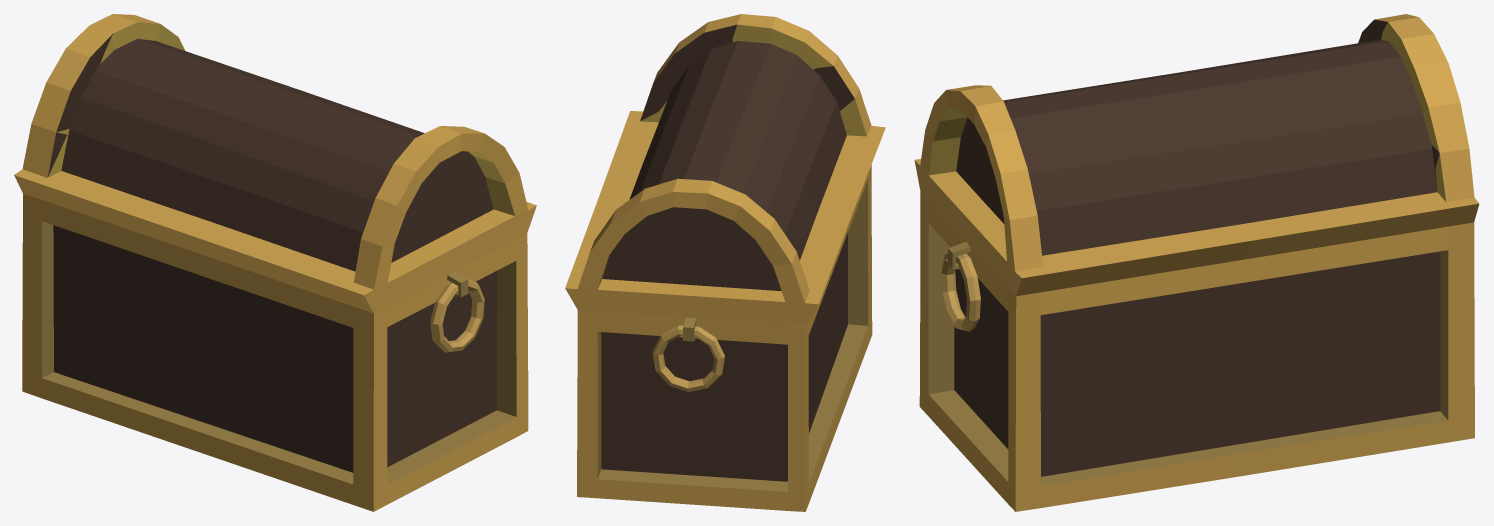
3 views of the same model, side by side, from view 1: azimuth 30°, elevation 25°; view 2: azimuth 150°, elevation 25°; view 3: azimuth 270°, elevation 25° (orthographic). The views are drawn at different scales.
Visible parts, largest first — view 1: Box, Lid; view 2: Lid, Box; view 3: Box, Lid.
Boxes of the visible parts, x1=… form: Box: x1=22, y1=194, x2=528, y2=511; Lid: x1=14, y1=14, x2=536, y2=313; Lid: x1=565, y1=14, x2=885, y2=325; Box: x1=577, y1=165, x2=872, y2=511; Box: x1=919, y1=192, x2=1474, y2=511; Lid: x1=914, y1=14, x2=1479, y2=296.
Bounding box in the file's own units: 277 × 244 × 345.
